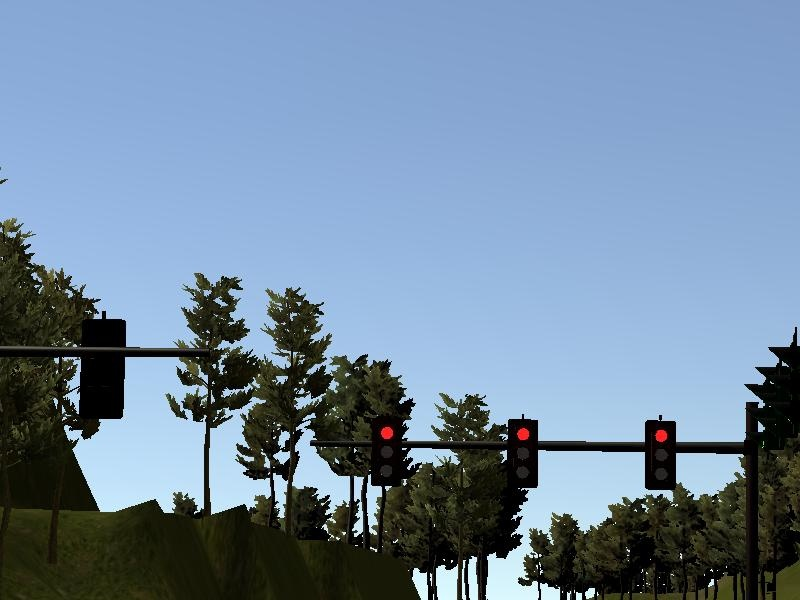red: (643, 415, 681, 493), (506, 415, 541, 491), (369, 414, 403, 486)
